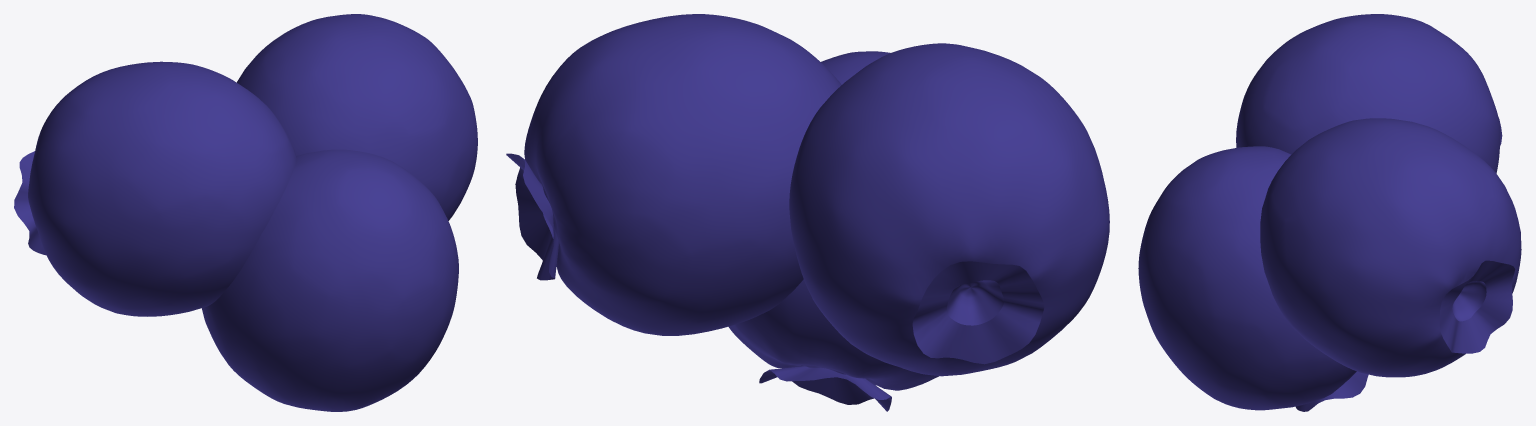
The model's file is blueberry.fbx.
The picture shows the model from 3 angles, left to right: view 1: azimuth 30°, elevation 25°; view 2: azimuth 150°, elevation 25°; view 3: azimuth 270°, elevation 25°; orthographic projection. The views are drawn at different scales.
Parts seen in each view (by area): view 1: ICO球.006, ICO球, ICO球.005; view 2: ICO球.006, ICO球.005, ICO球; view 3: ICO球.005, ICO球, ICO球.006.
Boxes of the visible parts, left/top/right/bottom form: ICO球.006: left=14, top=61, right=296, bottom=316; ICO球: left=202, top=149, right=458, bottom=411; ICO球.005: left=237, top=14, right=477, bottom=220; ICO球.006: left=789, top=43, right=1109, bottom=376; ICO球.005: left=506, top=14, right=841, bottom=335; ICO球: left=728, top=51, right=939, bottom=411; ICO球.005: left=1260, top=118, right=1521, bottom=377; ICO球: left=1138, top=146, right=1368, bottom=411; ICO球.006: left=1236, top=14, right=1502, bottom=173.
Size of the model in its own units: 419 by 307 by 328.
1 material, 1 textured.
